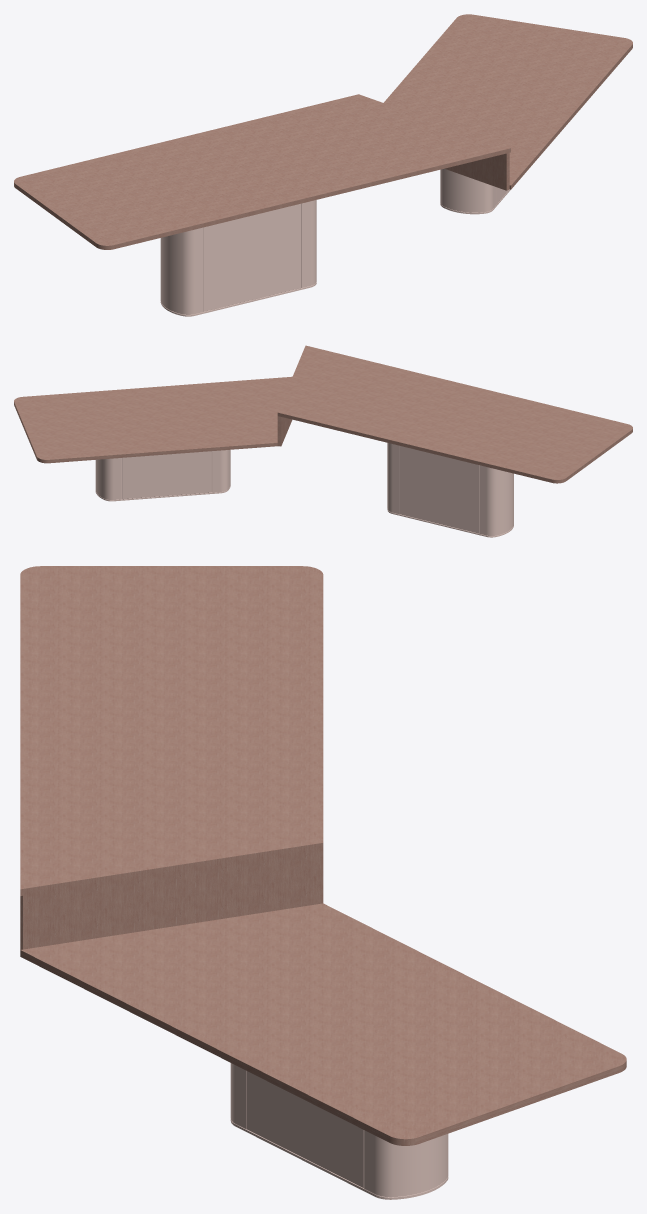
File: Centro_High_Low.glb
The picture shows the model from 3 angles, top to bottom: view 1: azimuth 30°, elevation 25°; view 2: azimuth 150°, elevation 25°; view 3: azimuth 270°, elevation 25°; orthographic projection. The views are drawn at different scales.
Visible parts, largest first — view 1: CENTRO_HIGH_LOW_120 DEG; view 2: CENTRO_HIGH_LOW_120 DEG; view 3: CENTRO_HIGH_LOW_120 DEG.
Part boxes in pixels (x1,y1,x2,y2): CENTRO_HIGH_LOW_120 DEG: (14, 14, 632, 316); CENTRO_HIGH_LOW_120 DEG: (14, 345, 632, 537); CENTRO_HIGH_LOW_120 DEG: (20, 566, 626, 1199).
Size of the model in its own units: 5.8 by 1.05 by 2.9.
2 materials, 1 textured.
